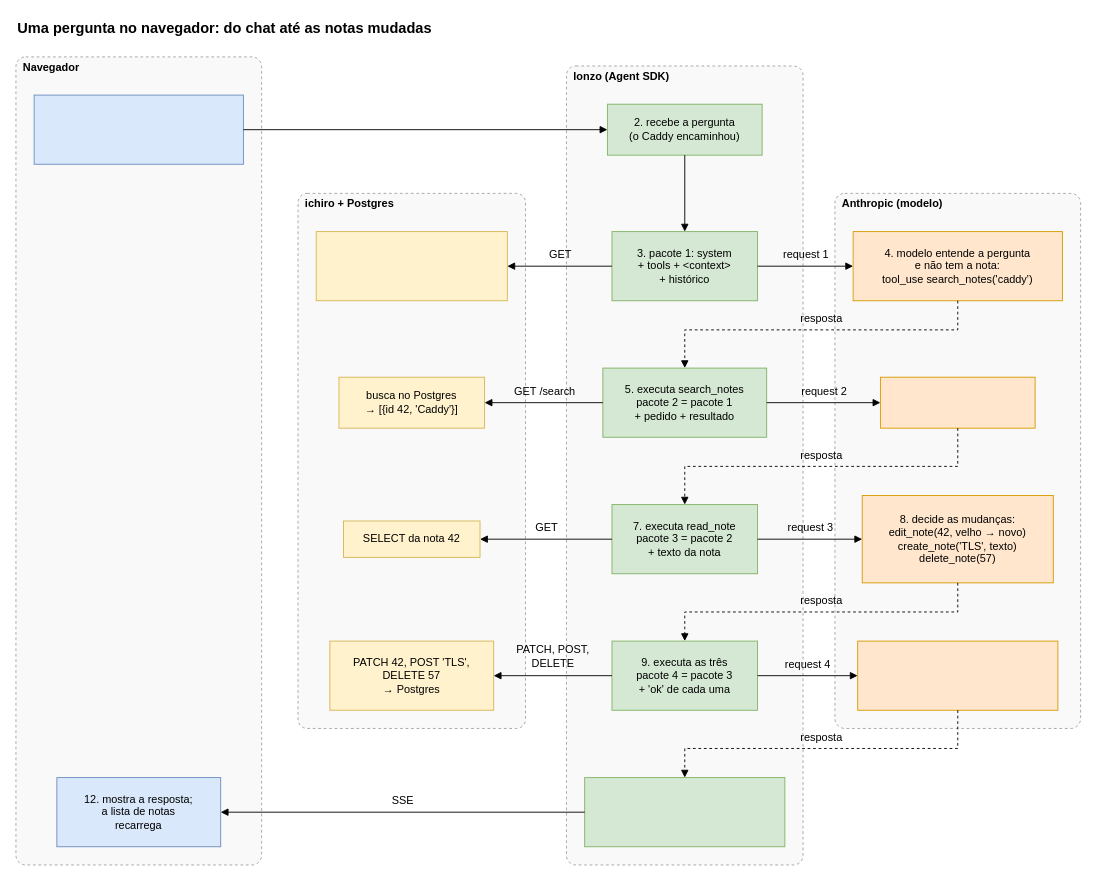
Some shapes in this 1097 by 881 pixel diagram are drawn without their labels. Each missing label, with the box of its shape:
1. pergunta no chat POST /api/chat {workspace, conversa, pergunta}: (33, 94, 243, 164)
10. nada mais a pedir: só texto ('atualizei Caddy, criei TLS, apaguei 57'): (857, 640, 1058, 710)
11. grava a conversa (banco do lonzo) e manda o texto aos pedaços: (584, 777, 785, 847)
6. já sabe o id: tool_use read_note(42): (880, 376, 1035, 428)
lê o .workspace/ da pasta e os de cima: regras + description das skills: (315, 231, 507, 301)
